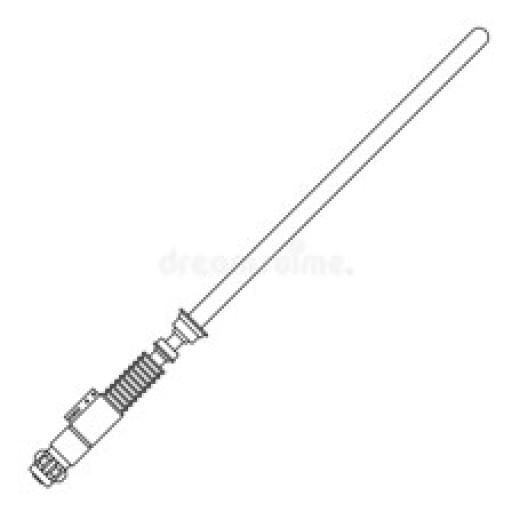lightsaber: (27, 24, 492, 488)
